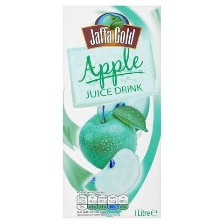carton: (57, 4, 172, 222)
